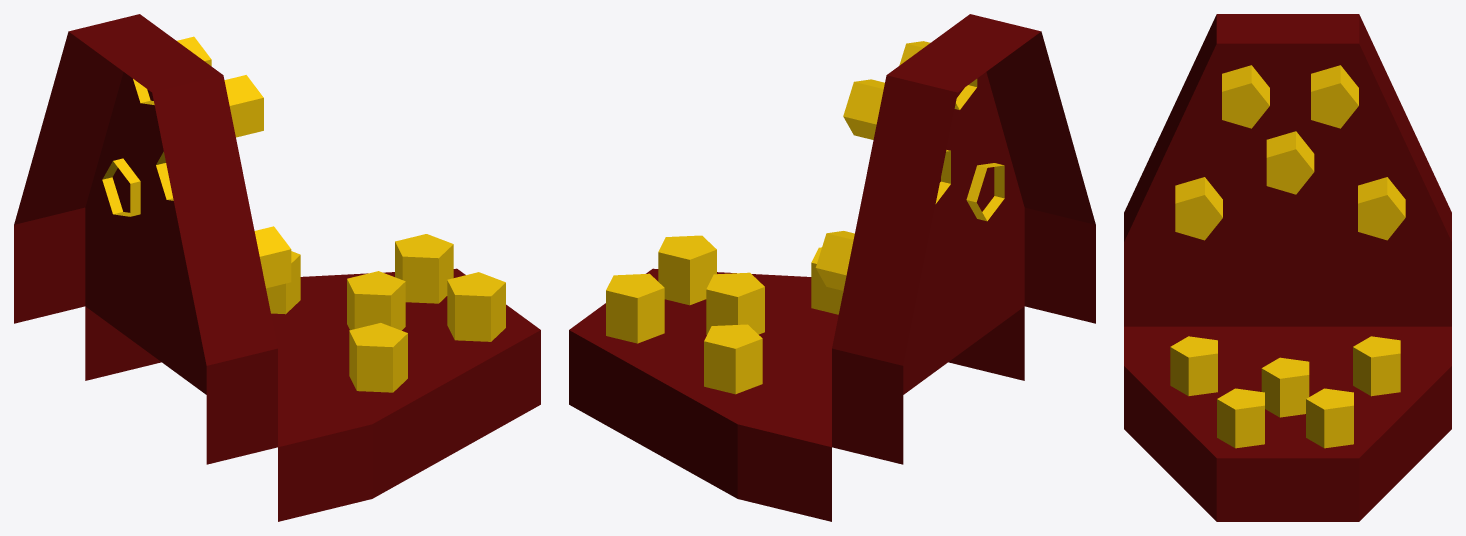
Rendered from GirderJoint.fbx.
The picture shows the model from 3 angles, left to right: view 1: azimuth 30°, elevation 25°; view 2: azimuth 150°, elevation 25°; view 3: azimuth 270°, elevation 25°; orthographic projection. The views are drawn at different scales.
Visible parts, largest first — view 1: Cube.001; view 2: Cube.001; view 3: Cube.001.
Part boxes in pixels (left/top/right/bottom): Cube.001: left=14, top=14, right=540, bottom=521; Cube.001: left=569, top=14, right=1095, bottom=521; Cube.001: left=1124, top=14, right=1451, bottom=521.
Bounding box in the file's own units: 91.81 × 91.81 × 78.78.
